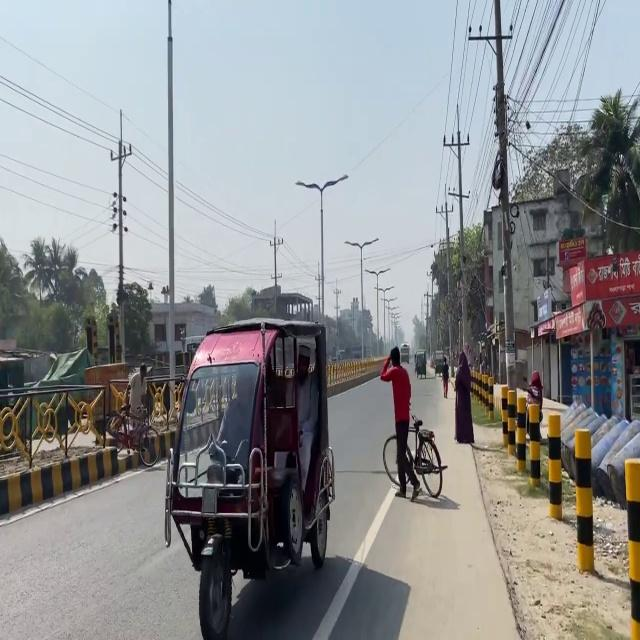Bench: (498, 386, 640, 631)
Construction-barrier: (0, 442, 167, 526), (469, 441, 527, 638)
Garbage-bin: (379, 346, 422, 501), (453, 350, 474, 443), (525, 370, 543, 440), (440, 356, 450, 398)
Traffic-cone: (164, 314, 338, 636)
